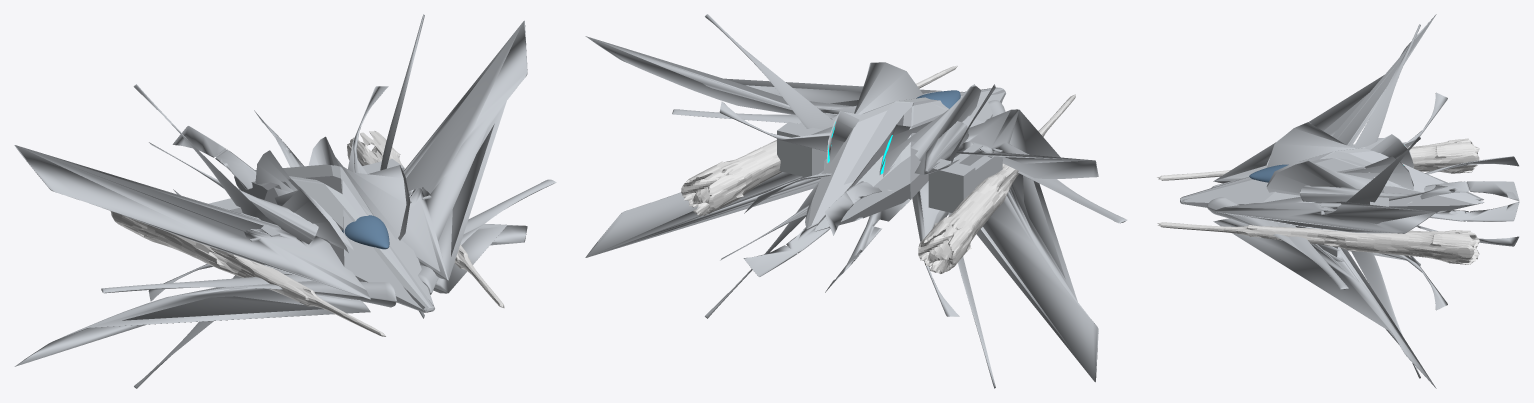
The model's file is Player01.glb.
3 renders of one model, left to right at view 1: azimuth 30°, elevation 25°; view 2: azimuth 150°, elevation 25°; view 3: azimuth 270°, elevation 25°, orthographic. The views are drawn at different scales.
Visible parts, largest first — view 1: assembly_wing_r, assembly_fuselage, assembly_enginepod0_r, Burner_L, assembly_wing_aileron_r, assembly_subwing_aileron_r, assembly_subwing_r, assembly_tail_r, Burner_R, assembly_canopy, assembly_wing_weapon_r; view 2: assembly_wing_r, assembly_fuselage, assembly_enginepod0_r, assembly_wing_weapon_r, Burner_L, Burner_R, assembly_subwing_r, assembly_tail_r, assembly_subwing_aileron_r, assembly_wing_aileron_r; view 3: assembly_wing_r, assembly_enginepod0_r, Burner_R, assembly_fuselage, assembly_subwing_aileron_r, assembly_tail_r, Burner_L, assembly_subwing_r, assembly_wing_aileron_r, assembly_canopy.
Boxes of the visible parts, x1,y1,x2,y2 form: assembly_wing_r: (14,20,527,366); assembly_fuselage: (234,164,434,312); assembly_enginepod0_r: (255,136,410,252); Burner_L: (110,211,385,336); assembly_wing_aileron_r: (101,179,556,307); assembly_subwing_aileron_r: (133,14,424,388); assembly_subwing_r: (148,86,388,301); assembly_tail_r: (172,110,303,195); Burner_R: (347,131,504,308); assembly_canopy: (342,215,389,249); assembly_wing_weapon_r: (208,159,431,241); assembly_wing_r: (585,36,1098,382); assembly_fuselage: (805,87,1005,231); assembly_enginepod0_r: (826,62,981,177); assembly_wing_weapon_r: (777,106,1002,212); Burner_L: (918,94,1075,273); Burner_R: (681,65,957,216); assembly_subwing_r: (719,101,968,316); assembly_tail_r: (743,173,910,292); assembly_subwing_aileron_r: (704,14,995,388); assembly_wing_aileron_r: (672,91,1127,223); assembly_wing_r: (1213,14,1436,388); assembly_enginepod0_r: (1266,122,1413,195); Burner_R: (1157,222,1479,264); assembly_fuselage: (1180,148,1483,213); assembly_subwing_aileron_r: (1346,24,1420,378); assembly_tail_r: (1406,156,1519,246); Burner_L: (1156,138,1479,180); assembly_subwing_r: (1299,92,1447,310); assembly_wing_aileron_r: (1206,180,1348,289); assembly_canopy: (1249,164,1288,182).
Bounding box in the file's own units: 6.84 × 3.9 × 5.29.
